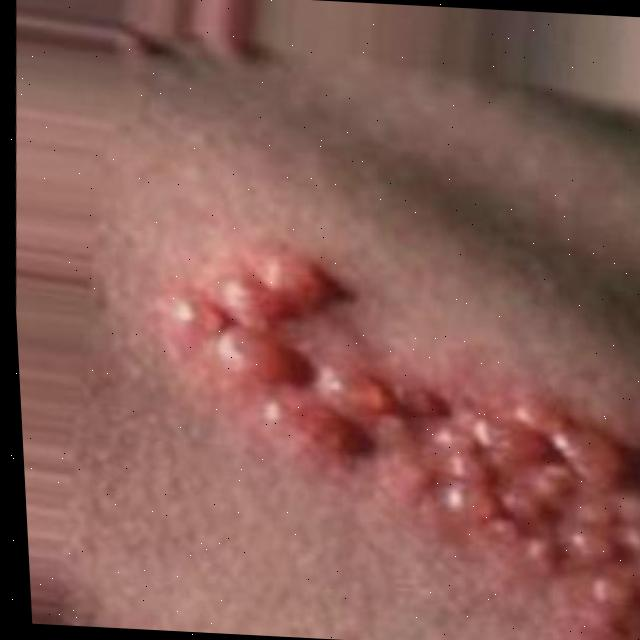Shingles: (153, 262, 640, 625)
